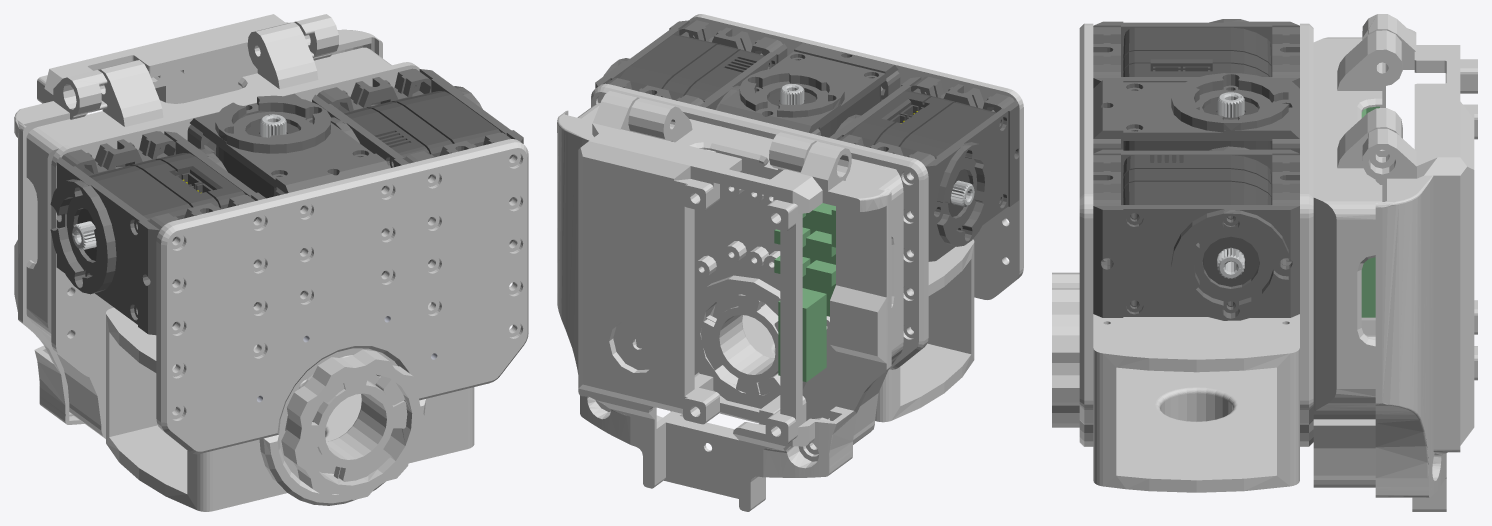
The model's file is humanoid_body_base-2.glb.
3 renders of one model, left to right at view 1: azimuth 30°, elevation 25°; view 2: azimuth 150°, elevation 25°; view 3: azimuth 270°, elevation 25°, orthographic. The views are drawn at different scales.
Parts seen in each view (by area): view 1: humanoid_body_base-2; view 2: humanoid_body_base-2; view 3: humanoid_body_base-2.
Part boxes in pixels (box(x1,y1,x2,y2)): humanoid_body_base-2: box(14, 14, 528, 511); humanoid_body_base-2: box(557, 14, 1023, 511); humanoid_body_base-2: box(1052, 14, 1477, 511).
Size of the model in its own units: 0.101 by 0.0974 by 0.0928.
